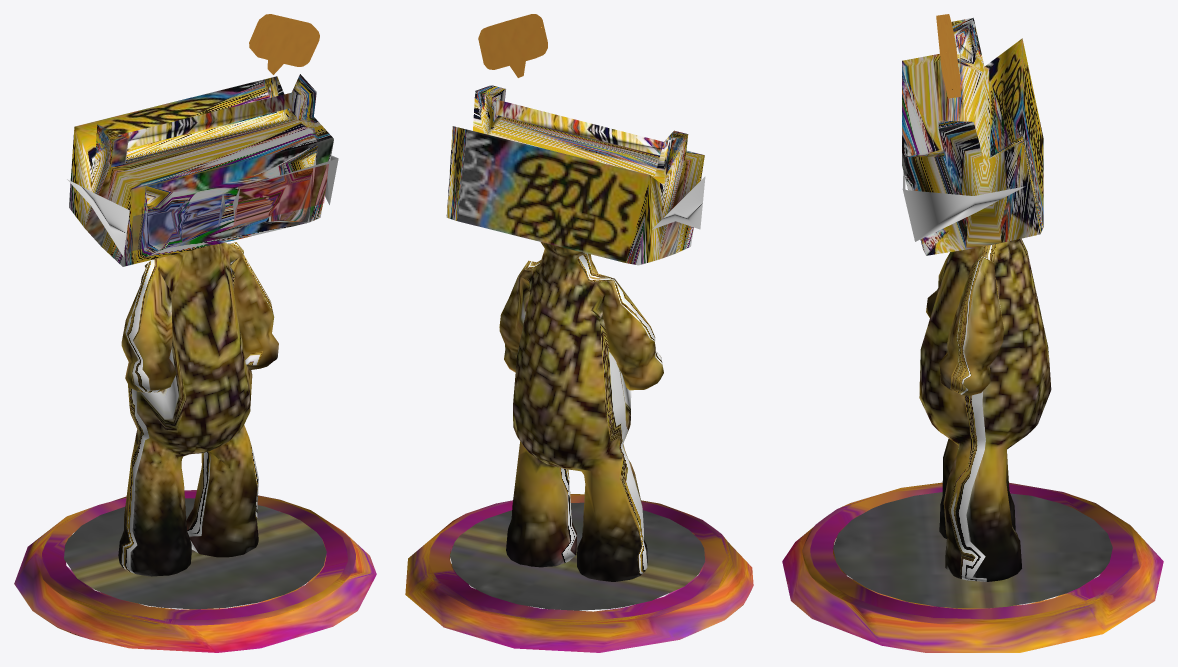
3 renders of one model, left to right at view 1: azimuth 30°, elevation 25°; view 2: azimuth 150°, elevation 25°; view 3: azimuth 270°, elevation 25°, orthographic. The views are drawn at different scales.
Size of the model in its own units: 1.42 by 2.45 by 1.43.
Materials: 8 (5 with a texture image).
